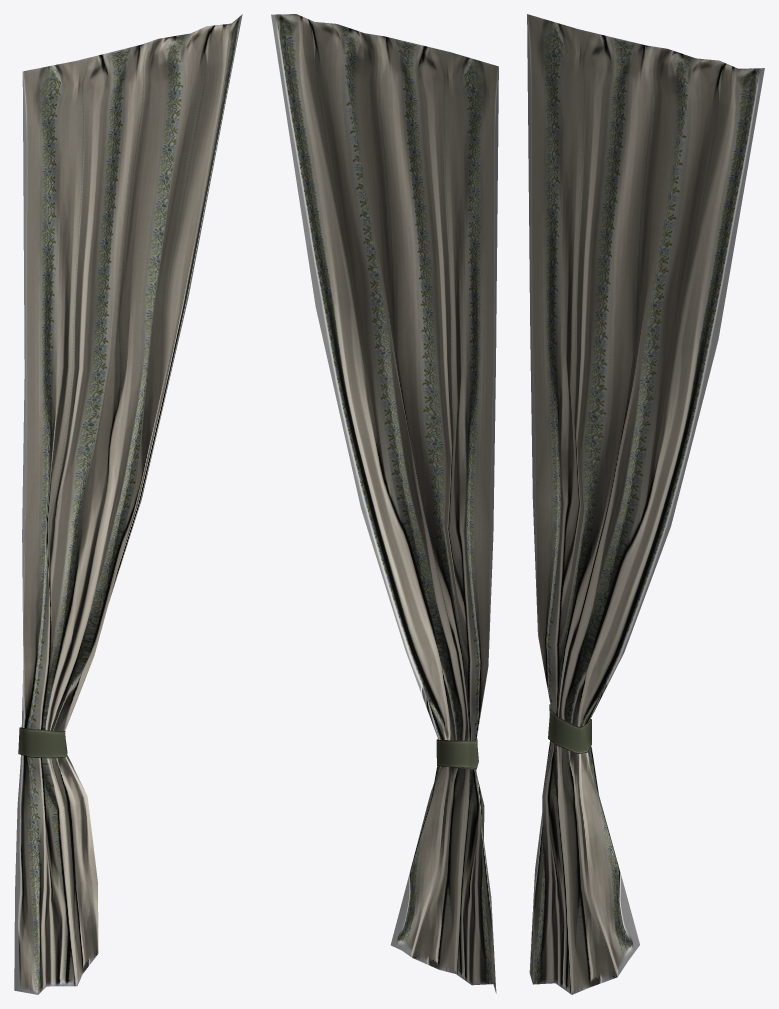
File: Curtain01.FBX
The picture shows the model from 3 angles, left to right: view 1: azimuth 30°, elevation 25°; view 2: azimuth 150°, elevation 25°; view 3: azimuth 330°, elevation 25°; orthographic projection. The views are drawn at different scales.
Parts seen in each view (by area): view 1: Curtain01; view 2: Curtain01; view 3: Curtain01.
Part boxes in pixels (x1=…): Curtain01: x1=14, y1=14, x2=242, y2=994; Curtain01: x1=271, y1=14, x2=498, y2=993; Curtain01: x1=527, y1=14, x2=764, y2=994.
Bounding box in the file's own units: 156 × 32.26 × 606.
